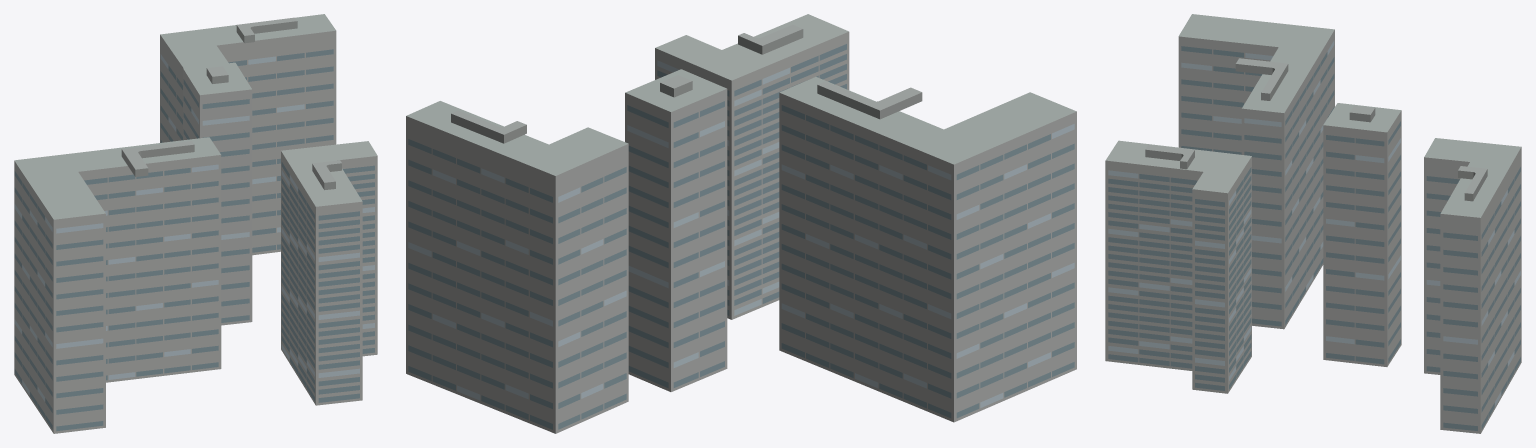
Rendered from apt-a13405002.glb.
The picture shows the model from 3 angles, left to right: view 1: azimuth 30°, elevation 25°; view 2: azimuth 150°, elevation 25°; view 3: azimuth 270°, elevation 25°; orthographic projection. The views are drawn at different scales.
Parts seen in each view (by area): view 1: apt-a13405002; view 2: apt-a13405002; view 3: apt-a13405002.
Boxes of the visible parts, <box> form: apt-a13405002: <box>14,14,377,433</box>; apt-a13405002: <box>406,14,1076,433</box>; apt-a13405002: <box>1105,14,1521,433</box>.
Bounding box in the file's own units: 141 × 78 × 121.
